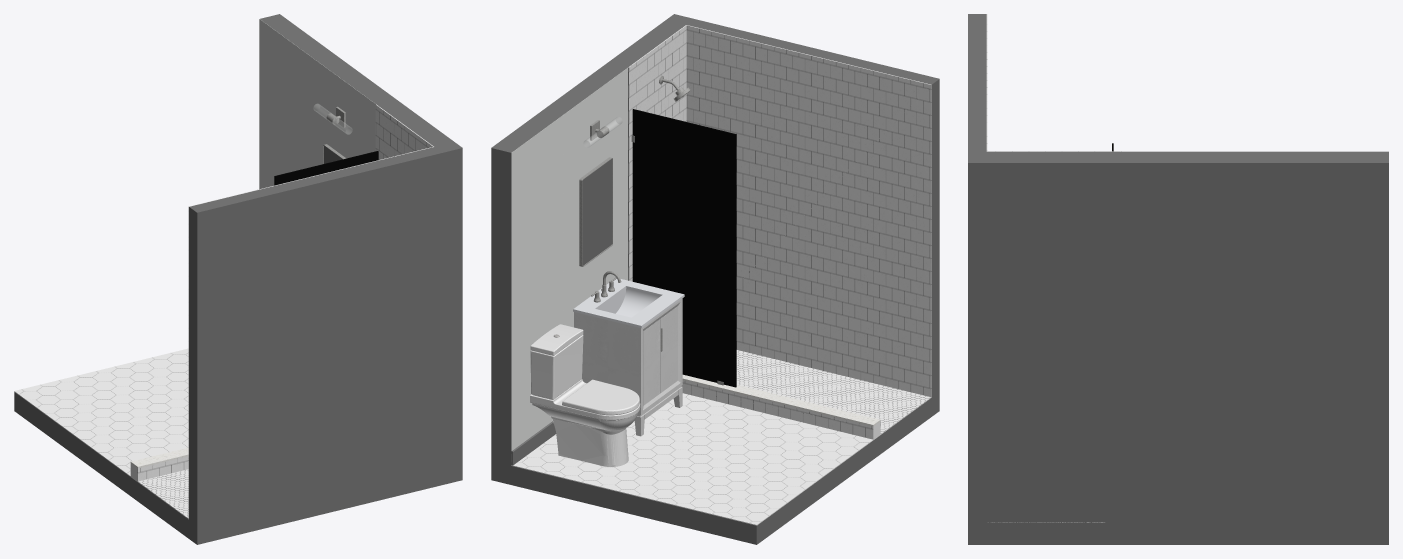
3 views of the same model, side by side, from view 1: azimuth 30°, elevation 25°; view 2: azimuth 150°, elevation 25°; view 3: azimuth 270°, elevation 25° (orthographic). The views are drawn at different scales.
Parts seen in each view (by area): view 1: 3DGeom-71, 3DGeom-35, 3DGeom-64, 3DGeom-72, 3DGeom-36, 3DGeom-61, 3DGeom-34, 3DGeom-38, 3DGeom-63, 3DGeom-60; view 2: 3DGeom-60, 3DGeom-64, 3DGeom-35, 3DGeom-38, 3DGeom-72, 3DGeom-36, 3DGeom-31, 3DGeom-34, 3DGeom-71, 3DGeom-3, 3DGeom-61, 3DGeom-29 (+9 smaller); view 3: 3DGeom-72, 3DGeom-36, 3DGeom-71.
Part boxes in pixels (x1,y1,x2,y2): 3DGeom-71: (189,147,442,525); 3DGeom-35: (14,348,188,476); 3DGeom-64: (259,19,375,189); 3DGeom-72: (260,14,462,465); 3DGeom-36: (14,392,462,544); 3DGeom-61: (382,109,433,158); 3DGeom-34: (137,469,188,519); 3DGeom-38: (274,151,378,185); 3DGeom-63: (137,456,188,481); 3DGeom-60: (188,146,433,519); 3DGeom-60: (686,25,931,397); 3DGeom-64: (511,68,627,450); 3DGeom-35: (511,393,873,525); 3DGeom-38: (632,109,736,387); 3DGeom-72: (491,14,693,465); 3DGeom-36: (491,392,939,544); 3DGeom-31: (574,298,682,436); 3DGeom-34: (736,350,931,435); 3DGeom-71: (686,19,939,397); 3DGeom-3: (530,324,640,462); 3DGeom-61: (635,25,686,121); 3DGeom-29: (573,279,684,328); 3DGeom-72: (968,151,1388,522); 3DGeom-36: (968,523,1388,544); 3DGeom-71: (968,14,986,151).
Bounding box in the file's own units: 2.17 × 2.59 × 2.59.
